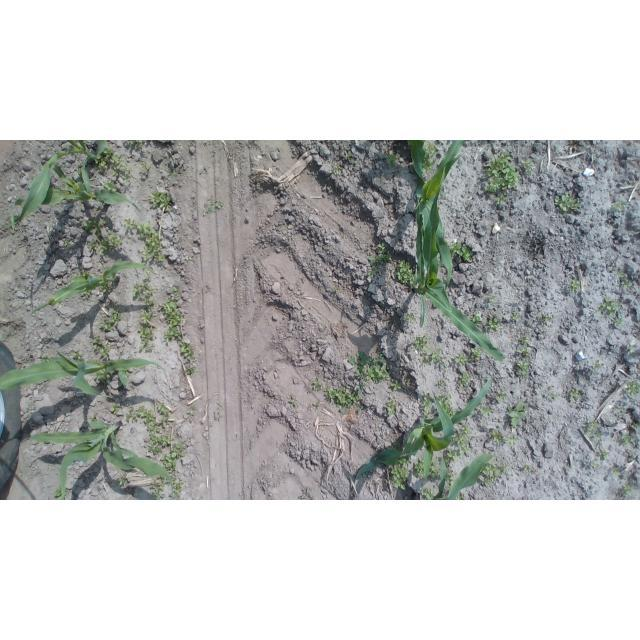Maize: (411, 154, 508, 363), (354, 377, 490, 476), (29, 420, 176, 501), (4, 140, 108, 228), (9, 163, 142, 229), (416, 141, 469, 292), (1, 351, 166, 398), (30, 260, 155, 316), (435, 454, 507, 500), (409, 140, 429, 184)
Weeds: (126, 405, 171, 456), (124, 219, 166, 262), (482, 151, 520, 197), (132, 283, 156, 352), (411, 332, 448, 370), (348, 351, 390, 383), (324, 384, 368, 414), (158, 296, 183, 343), (96, 146, 133, 176), (161, 443, 186, 477), (389, 458, 412, 490), (395, 260, 417, 289), (554, 191, 582, 213), (480, 462, 508, 484), (453, 423, 472, 455), (449, 240, 475, 263), (98, 233, 124, 256), (149, 189, 173, 213), (416, 457, 441, 480), (438, 392, 458, 420), (422, 141, 438, 174), (368, 243, 393, 264), (509, 401, 528, 427), (596, 298, 621, 317), (81, 218, 108, 235), (90, 336, 111, 357), (491, 430, 520, 445), (100, 310, 121, 330), (203, 197, 225, 214), (444, 446, 461, 468), (422, 393, 435, 419), (180, 342, 196, 361), (172, 480, 185, 500), (624, 380, 640, 396), (385, 396, 397, 417), (305, 379, 323, 393), (457, 372, 472, 388), (520, 158, 534, 175), (517, 361, 530, 379), (95, 370, 111, 384), (384, 152, 401, 165), (485, 317, 500, 331), (420, 487, 436, 500), (470, 310, 482, 327), (454, 353, 468, 366), (328, 164, 343, 176), (103, 180, 118, 191), (470, 348, 482, 361), (109, 402, 121, 414), (520, 349, 533, 360), (570, 280, 581, 293), (152, 481, 165, 491), (117, 474, 128, 485), (614, 317, 625, 328), (622, 435, 632, 447), (40, 354, 53, 363), (624, 484, 633, 497), (404, 314, 417, 323), (611, 202, 625, 210), (129, 140, 143, 148), (186, 405, 196, 416), (622, 280, 633, 290), (171, 285, 181, 296), (391, 380, 402, 390), (55, 488, 67, 497), (495, 392, 507, 401), (140, 163, 153, 171), (496, 195, 506, 205), (488, 293, 497, 304), (73, 352, 84, 361), (167, 170, 178, 179), (570, 389, 581, 398), (481, 407, 492, 416), (184, 367, 196, 375), (368, 267, 377, 277), (455, 491, 465, 500), (152, 493, 164, 500), (447, 472, 454, 484), (344, 151, 352, 161), (512, 312, 521, 320), (160, 476, 169, 484), (616, 270, 624, 279), (84, 290, 92, 299), (102, 284, 111, 292), (87, 242, 96, 250), (613, 468, 622, 476), (520, 336, 528, 344), (144, 272, 152, 280), (312, 402, 320, 410), (83, 270, 91, 278), (601, 451, 609, 459), (591, 420, 599, 428), (584, 429, 592, 437), (523, 464, 531, 472), (438, 380, 446, 388), (593, 363, 602, 370), (76, 167, 82, 177), (590, 461, 598, 468), (631, 423, 640, 429), (544, 316, 551, 323), (64, 240, 71, 247), (123, 177, 129, 184), (290, 398, 296, 405), (74, 272, 82, 277), (93, 412, 97, 421), (333, 288, 340, 293), (550, 393, 557, 398), (596, 433, 601, 439), (408, 140, 412, 146), (618, 408, 623, 412), (632, 456, 635, 461)
